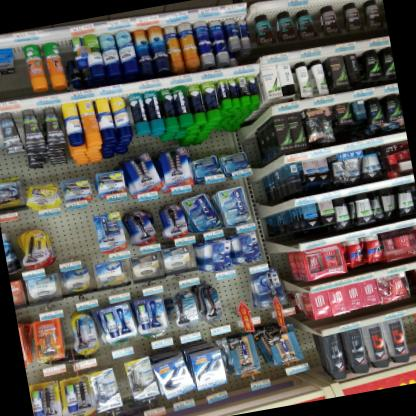empty_space: (43, 208, 101, 271), (217, 274, 263, 330), (401, 312, 416, 362)
